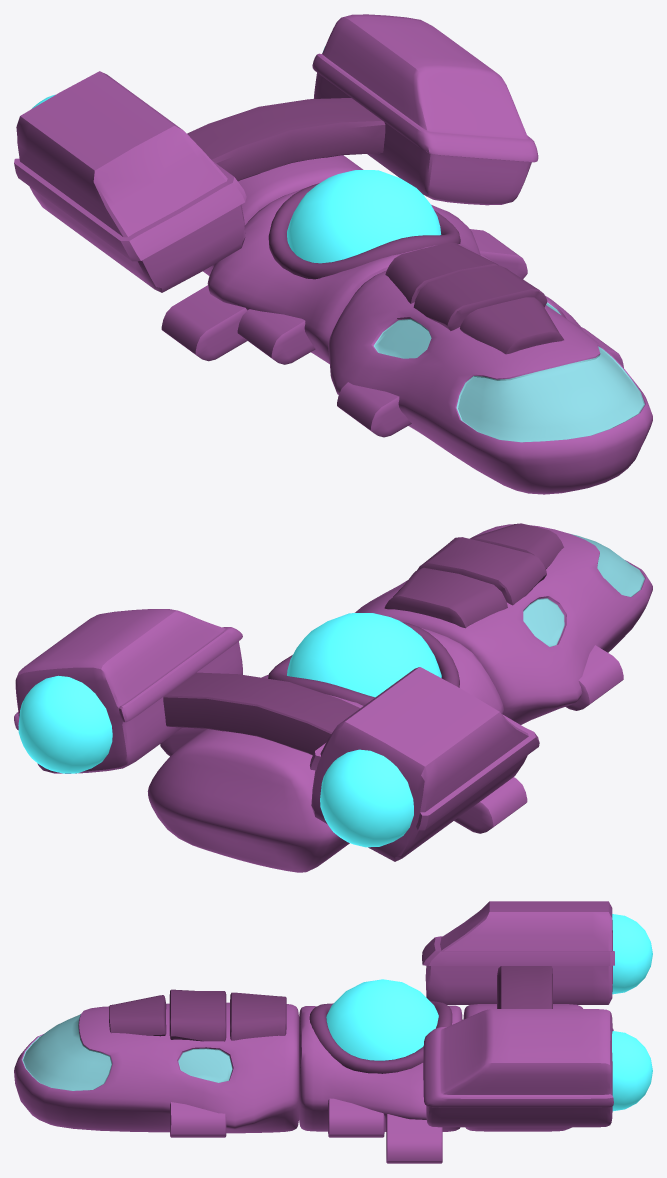
The model's file is SpaceShip.fbx.
3 renders of one model, top to bottom at view 1: azimuth 30°, elevation 25°; view 2: azimuth 150°, elevation 25°; view 3: azimuth 270°, elevation 25°, orthographic. The views are drawn at different scales.
Parts seen in each view (by area): view 1: Cube, Cube.002, Cube.001, Cube.003, Cube.011, Cube.010, Icosphere.002, Cube.012, Cube.007, Cube.009, Cube.005, Cube.006; view 2: Cube, Cube.002, Cube.001, Cube.003, Cube.011, Icosphere.002, Icosphere, Icosphere.001, Cube.012, Cube.010, Cube.007, Cube.005 (+1 smaller); view 3: Cube, Cube.001, Cube.002, Cube.010, Cube.003, Icosphere.002, Icosphere, Icosphere.001, Cube.006, Cube.012, Cube.011, Cube.008 (+1 smaller).
Part boxes in pixels (x1=…): Cube: x1=203, y1=155, x2=652, y2=494; Cube.002: x1=14, y1=71, x2=246, y2=292; Cube.001: x1=312, y1=14, x2=538, y2=205; Cube.003: x1=385, y1=242, x2=563, y2=354; Cube.011: x1=187, y1=98, x2=385, y2=181; Cube.010: x1=207, y1=188, x2=480, y2=364; Icosphere.002: x1=287, y1=170, x2=441, y2=263; Cube.012: x1=268, y1=183, x2=460, y2=279; Cube.007: x1=161, y1=285, x2=247, y2=361; Cube.009: x1=237, y1=309, x2=315, y2=364; Cube.005: x1=337, y1=382, x2=411, y2=437; Cube.006: x1=470, y1=229, x2=527, y2=278; Cube: x1=147, y1=524, x2=652, y2=872; Cube.002: x1=310, y1=667, x2=539, y2=861; Cube.001: x1=14, y1=609, x2=242, y2=773; Cube.003: x1=384, y1=523, x2=563, y2=628; Cube.011: x1=163, y1=672, x2=360, y2=755; Icosphere.002: x1=287, y1=613, x2=441, y2=697; Icosphere: x1=18, y1=675, x2=112, y2=773; Icosphere.001: x1=320, y1=749, x2=413, y2=847; Cube.012: x1=268, y1=622, x2=459, y2=705; Cube.010: x1=262, y1=628, x2=503, y2=714; Cube.007: x1=454, y1=777, x2=527, y2=833; Cube.005: x1=565, y1=645, x2=623, y2=710; Cube: x1=14, y1=1002, x2=582, y2=1133; Cube.001: x1=423, y1=1009, x2=613, y2=1127; Cube.002: x1=422, y1=901, x2=614, y2=1004; Cube.010: x1=299, y1=1005, x2=462, y2=1131; Cube.003: x1=109, y1=989, x2=286, y2=1041; Icosphere.002: x1=326, y1=979, x2=438, y2=1060; Icosphere: x1=612, y1=1031, x2=652, y2=1111; Icosphere.001: x1=612, y1=914, x2=652, y2=994; Cube.006: x1=386, y1=1114, x2=442, y2=1163; Cube.012: x1=309, y1=1001, x2=452, y2=1073; Cube.011: x1=497, y1=966, x2=552, y2=1008; Cube.008: x1=328, y1=1098, x2=384, y2=1137.
Bounding box in the file's own units: 6.58 × 3.05 × 11.01.
